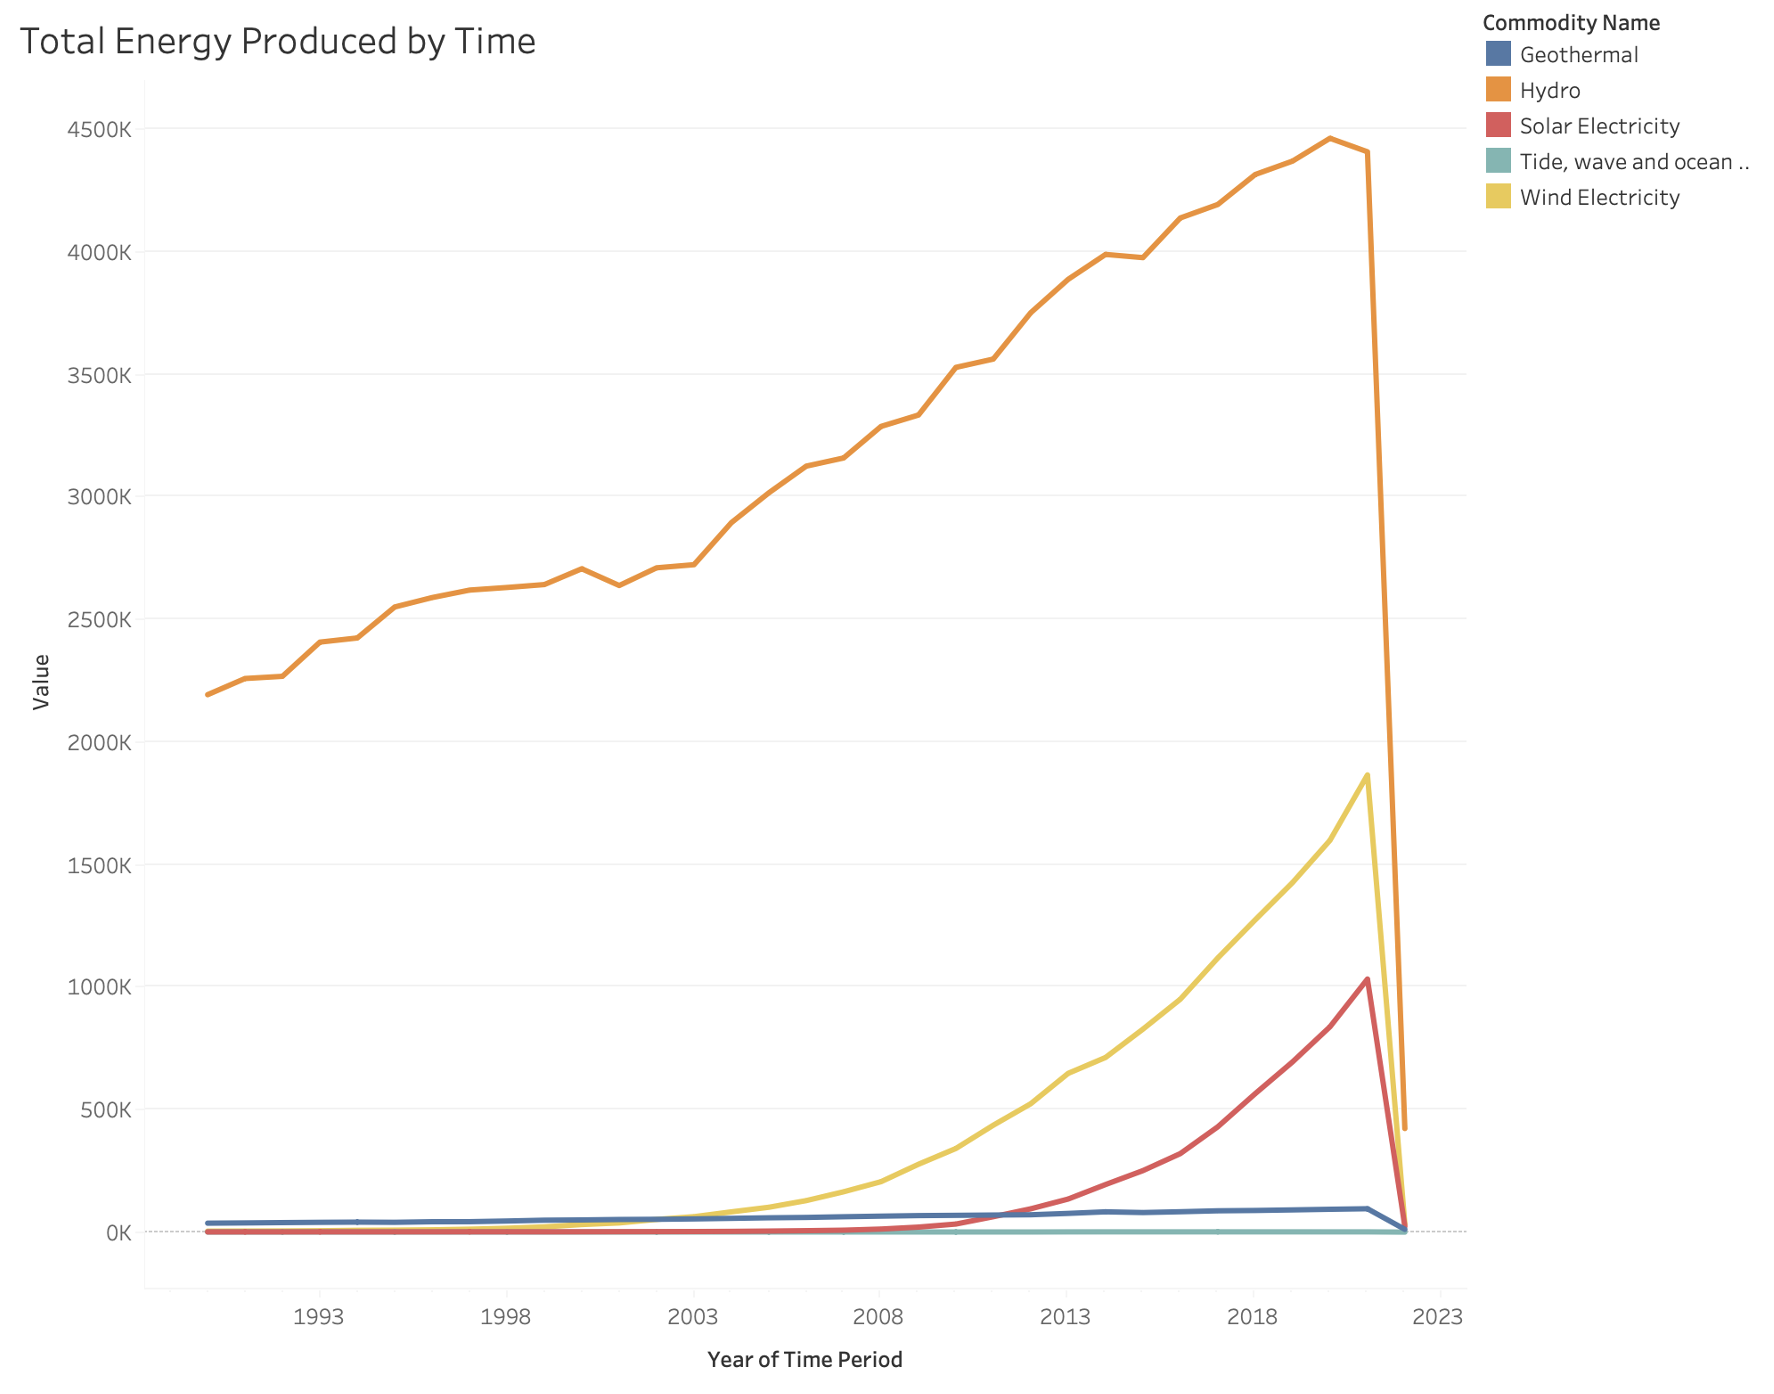

Layout of this report page (visuals, bound fields, positions):
{"tool":"tableau","page":{"name":"2_ODS_7.2.1","canvas":[1000,800],"ordinal":1},"visuals":[{"type":"worksheet","title":"Sheet 3","mark":"Automatic","box":[8,8,824,784]},{"type":"legend","title":"Sheet 3","param":"[federated.1miehs20nfe72e1g3rj4q0lleh6e].[avg:value:qk]","box":[832,8,160,65]}]}

Visuals, with their boxes in screenshot pixels (x1, y1, x2, y2), scaled from the page's 1000x800 canvas onto the 1774x1394 screenshot:
"Sheet 3" worksheet: [left=14, top=14, right=1476, bottom=1380]
"Sheet 3" legend: [left=1476, top=14, right=1760, bottom=127]
